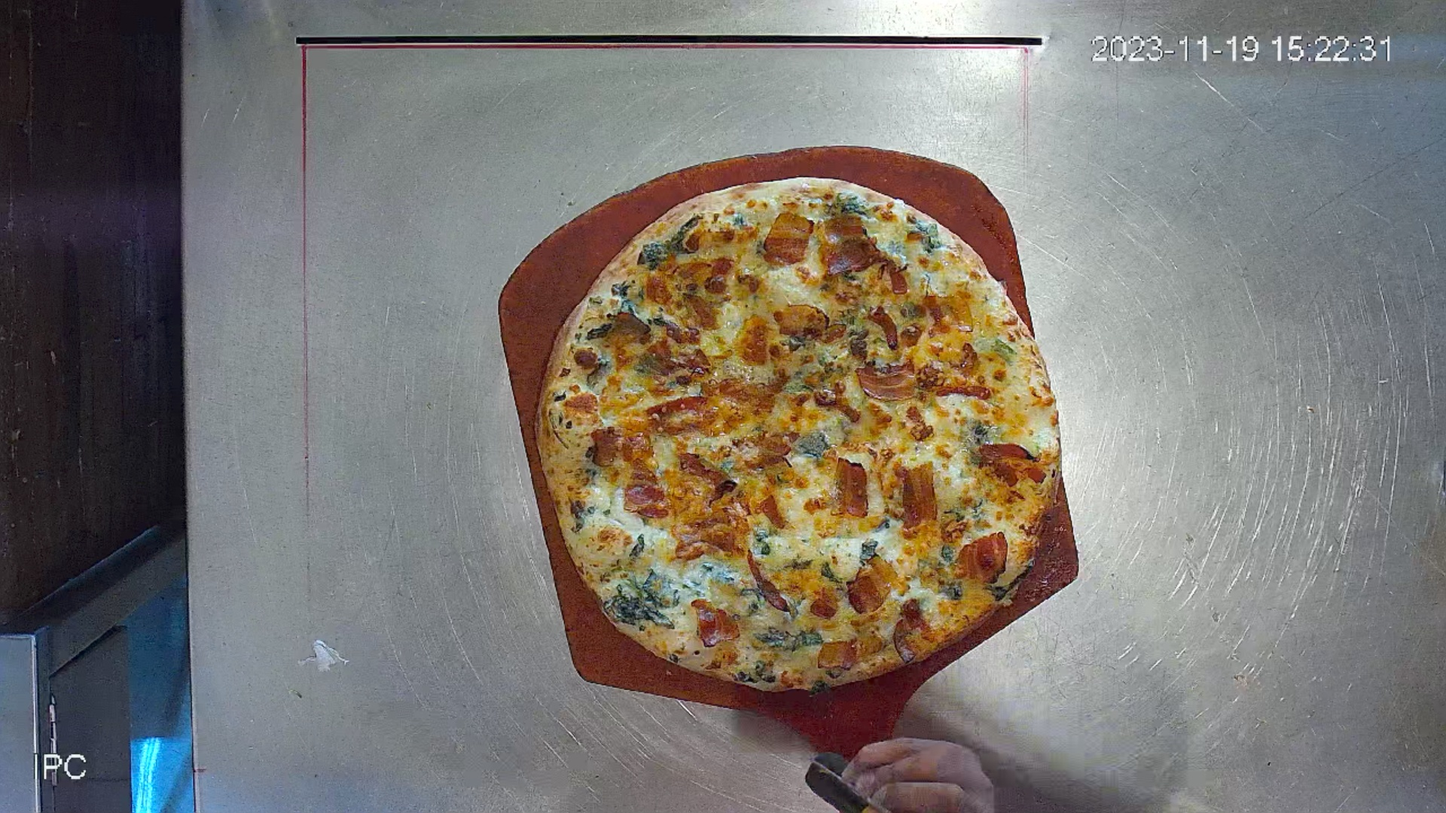pepporoni: (537, 178, 1063, 700)
